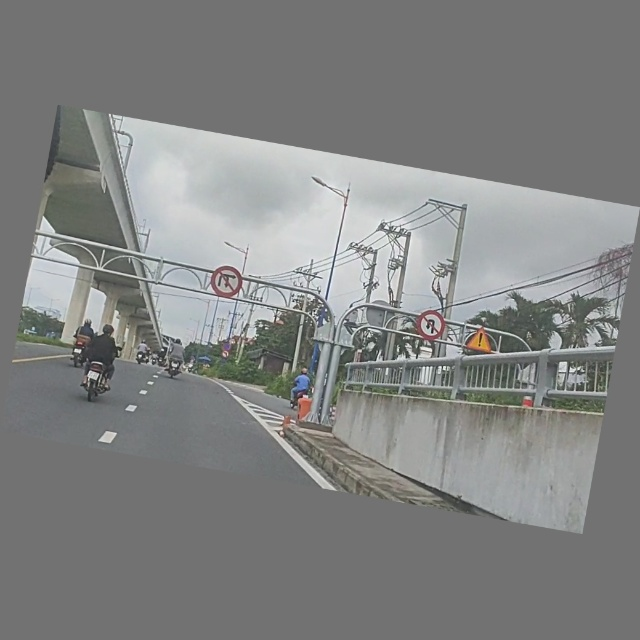P.123a: (221, 350, 231, 360)
P.124a*: (413, 308, 447, 342)
P.124d: (208, 264, 246, 302)
P.130: (221, 341, 233, 352)
W.233: (466, 326, 497, 355)
